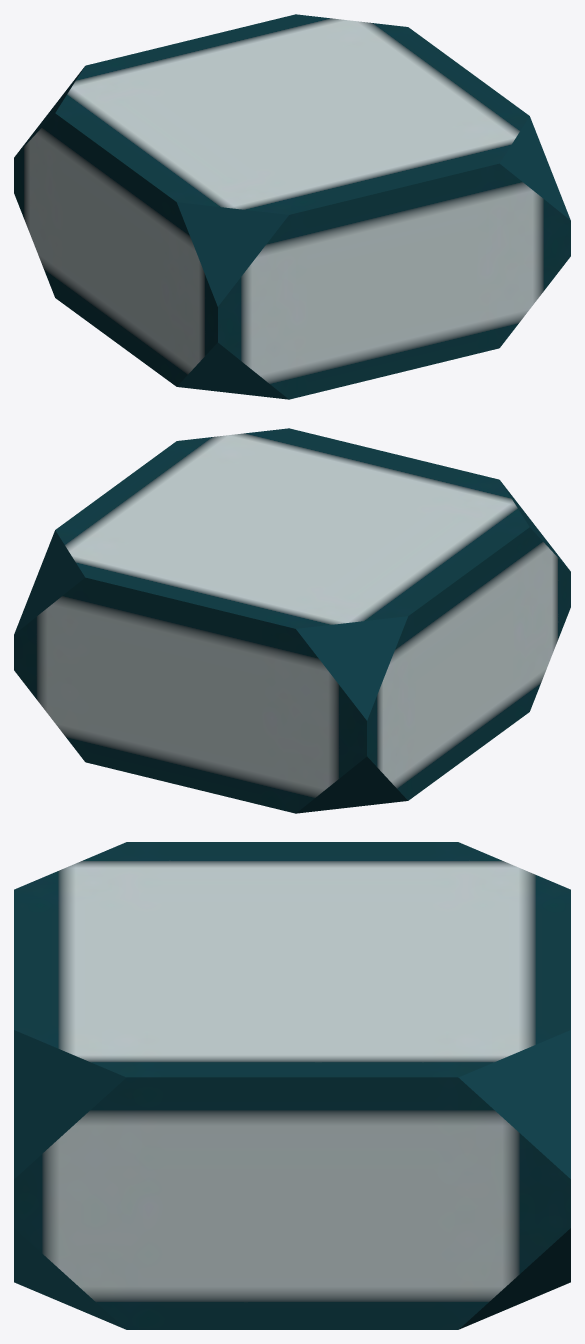
The model's file is MG-ChangJing-CeShi-BianKuai-1.FBX.
3 views of the same model, one above another, from view 1: azimuth 30°, elevation 25°; view 2: azimuth 150°, elevation 25°; view 3: azimuth 270°, elevation 25° (orthographic). The views are drawn at different scales.
Visible parts, largest first — view 1: MG-ChangJing-CeShi-BianKuai-1; view 2: MG-ChangJing-CeShi-BianKuai-1; view 3: MG-ChangJing-CeShi-BianKuai-1.
Boxes of the visible parts, x1,y1,x2,y2 form: MG-ChangJing-CeShi-BianKuai-1: [14, 14, 570, 399]; MG-ChangJing-CeShi-BianKuai-1: [14, 428, 570, 813]; MG-ChangJing-CeShi-BianKuai-1: [14, 842, 570, 1329].
Bounding box in the file's own units: 15.75 × 7.87 × 15.75.
